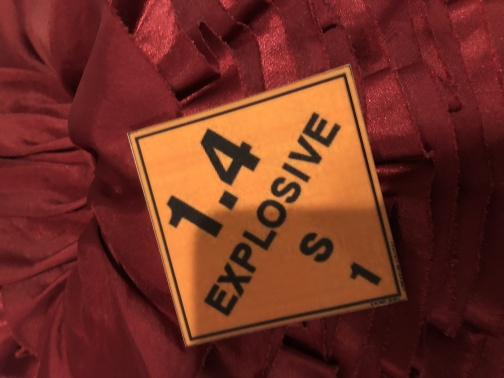Explosive: (117, 74, 416, 334)
